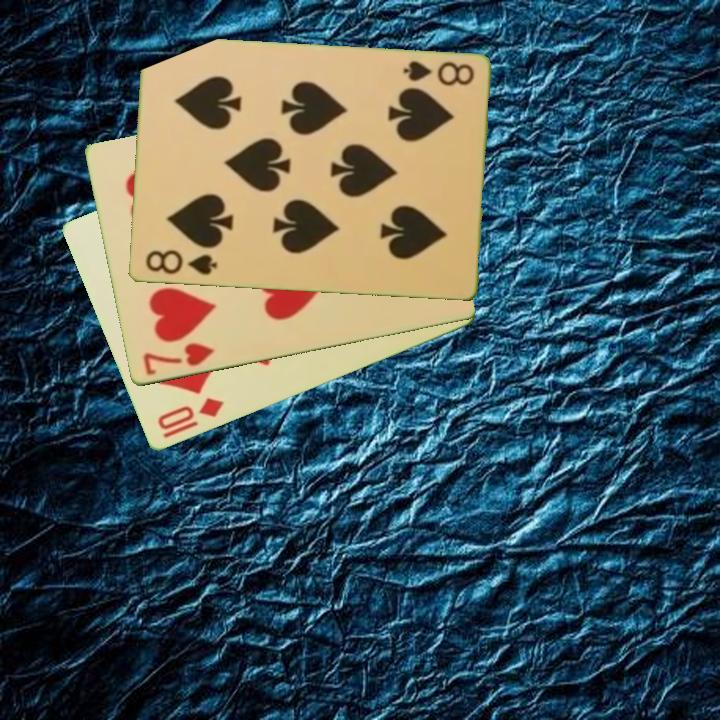10d: (154, 394, 227, 442)
7h: (139, 339, 218, 379)
8s: (142, 246, 220, 279), (399, 58, 477, 89)
